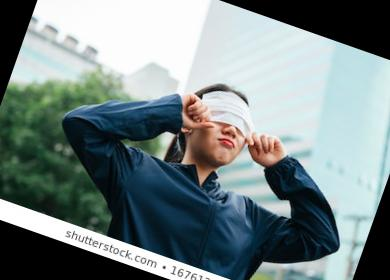mask_weared_incorrect: (184, 90, 260, 168)
